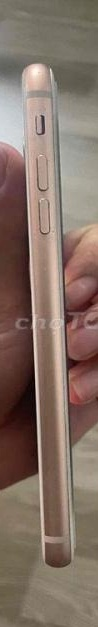scratch: (34, 221, 58, 236), (24, 107, 52, 116), (37, 263, 53, 273), (43, 153, 54, 166), (32, 68, 44, 77)
